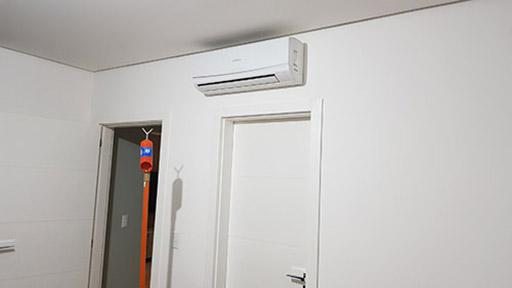Detector_Tensao_Contato: (139, 126, 155, 176)
Vara_Manobra: (138, 171, 151, 287)
